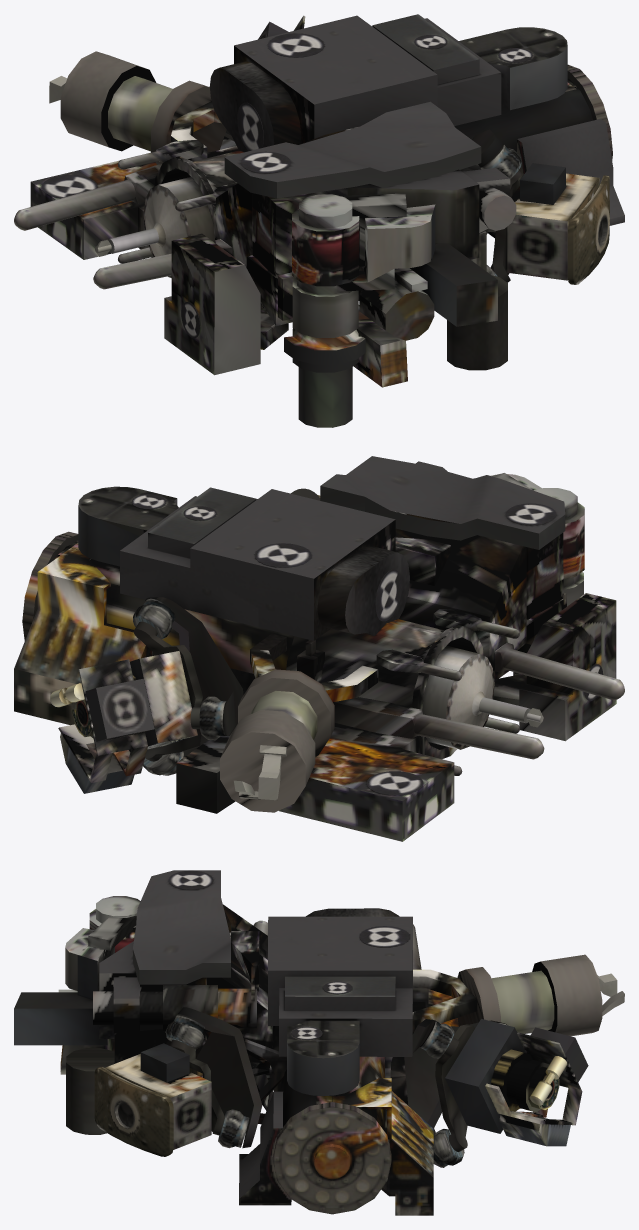
Rendered from arm_tools_fixed.dae.
The picture shows the model from 3 angles, top to bottom: view 1: azimuth 30°, elevation 25°; view 2: azimuth 150°, elevation 25°; view 3: azimuth 270°, elevation 25°; orthographic projection. The views are drawn at different scales.
Parts seen in each view (by area): view 1: arm_05_head, drill, CHIMRA, DRT, APXS; view 2: arm_05_head, drill, CHIMRA, DRT, MAHLI; view 3: arm_05_head, drill, APXS, CHIMRA, DRT, MAHLI.
Boxes of the visible parts, left/top/right/bottom form: arm_05_head: left=14, top=15, right=523, bottom=427; drill: left=95, top=14, right=624, bottom=277; CHIMRA: left=224, top=101, right=481, bottom=198; DRT: left=49, top=51, right=226, bottom=164; APXS: left=506, top=163, right=609, bottom=284; arm_05_head: left=58, top=461, right=624, bottom=841; drill: left=14, top=486, right=543, bottom=758; CHIMRA: left=320, top=456, right=565, bottom=549; DRT: left=220, top=669, right=334, bottom=812; MAHLI: left=50, top=675, right=136, bottom=738; arm_05_head: left=14, top=896, right=588, bottom=1167; drill: left=239, top=908, right=433, bottom=1215; APXS: left=94, top=1043, right=211, bottom=1156; CHIMRA: left=133, top=870, right=231, bottom=984; DRT: left=457, top=954, right=624, bottom=1036; MAHLI: left=491, top=1049, right=567, bottom=1112.
Bounding box in the file's own units: 0.5766 × 0.6411 × 0.2436.
3 materials, 3 textured.
